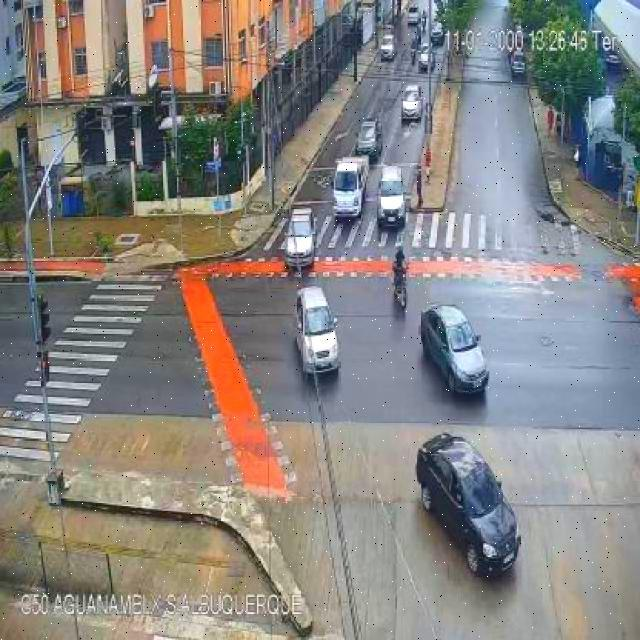Car: (418, 432, 520, 576), (420, 304, 490, 394), (294, 287, 339, 374), (283, 208, 317, 270), (375, 166, 406, 227), (355, 119, 382, 161), (401, 85, 423, 120), (509, 51, 526, 78), (380, 34, 396, 60), (418, 45, 433, 71), (430, 22, 444, 45), (407, 6, 420, 24)
Truck: (329, 152, 367, 223)
